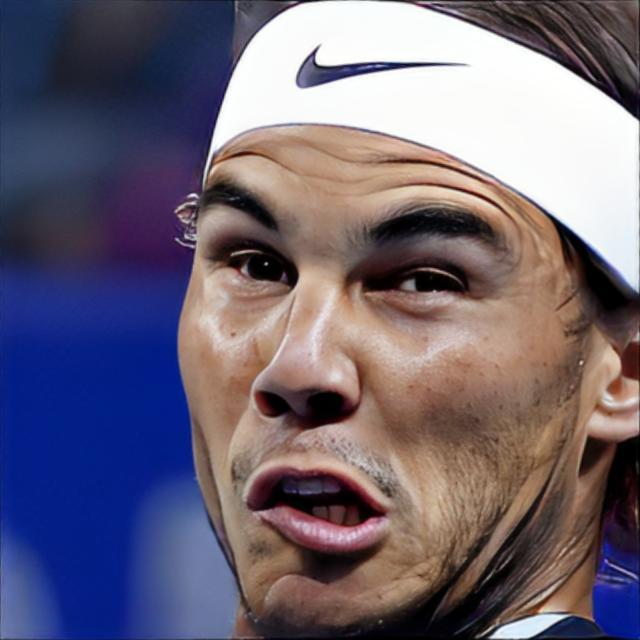disgust: (175, 125, 590, 635)
